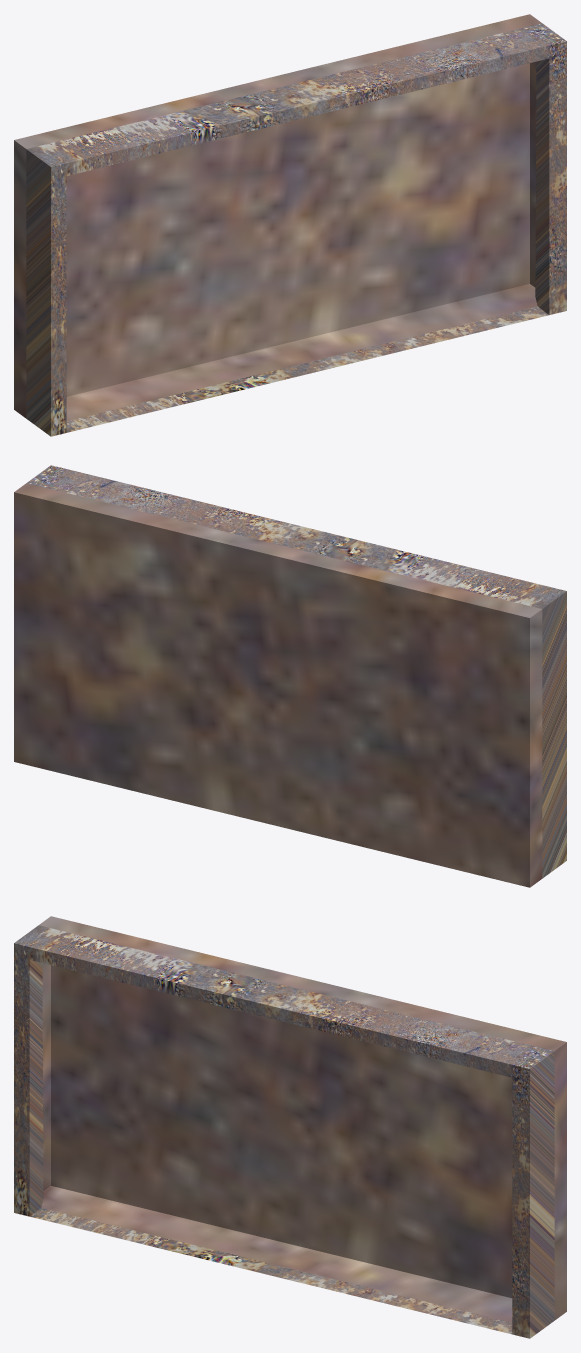
Rendered from Airport_Small Door.dae.
3 views of the same model, one above another, from view 1: azimuth 30°, elevation 25°; view 2: azimuth 150°, elevation 25°; view 3: azimuth 330°, elevation 25° (orthographic).
Visible parts, largest first — view 1: Cube4_copy8-0; view 2: Cube4_copy8-0; view 3: Cube4_copy8-0.
Part boxes in pixels (x1,y1,x2,y2): Cube4_copy8-0: (14,14,566,436); Cube4_copy8-0: (14,465,566,887); Cube4_copy8-0: (14,916,566,1338).
Bounding box in the file's own units: 4.02 × 2.01 × 0.5.
